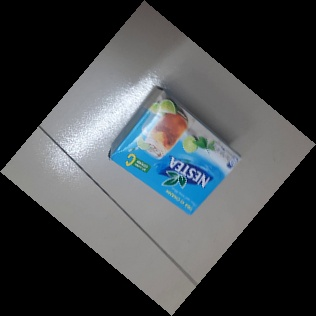Nestea: (108, 84, 242, 215)
